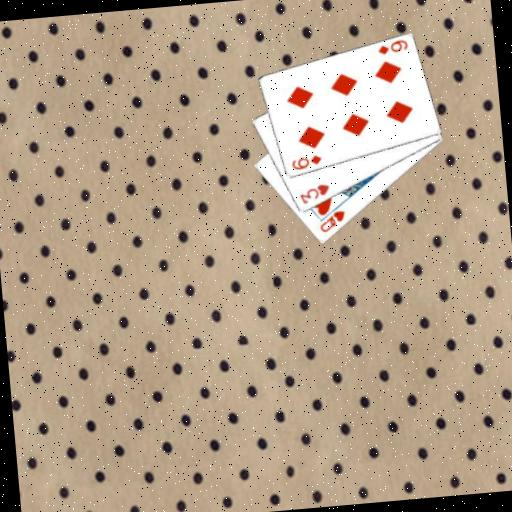3H: (296, 181, 333, 206)
6D: (288, 152, 323, 173), (375, 37, 410, 58)
QH: (316, 208, 349, 236)
